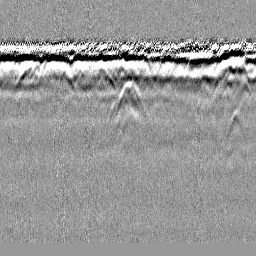cavity: (107, 80, 148, 121)
